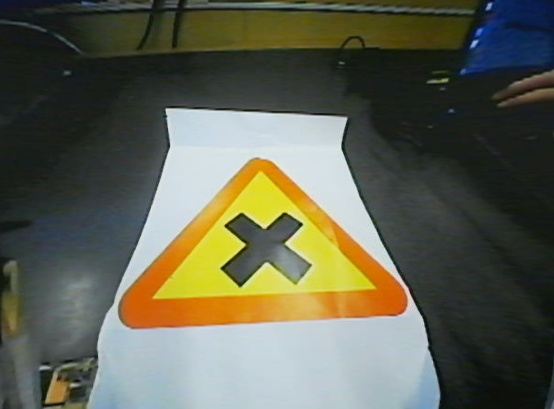junction: (86, 153, 450, 328)
